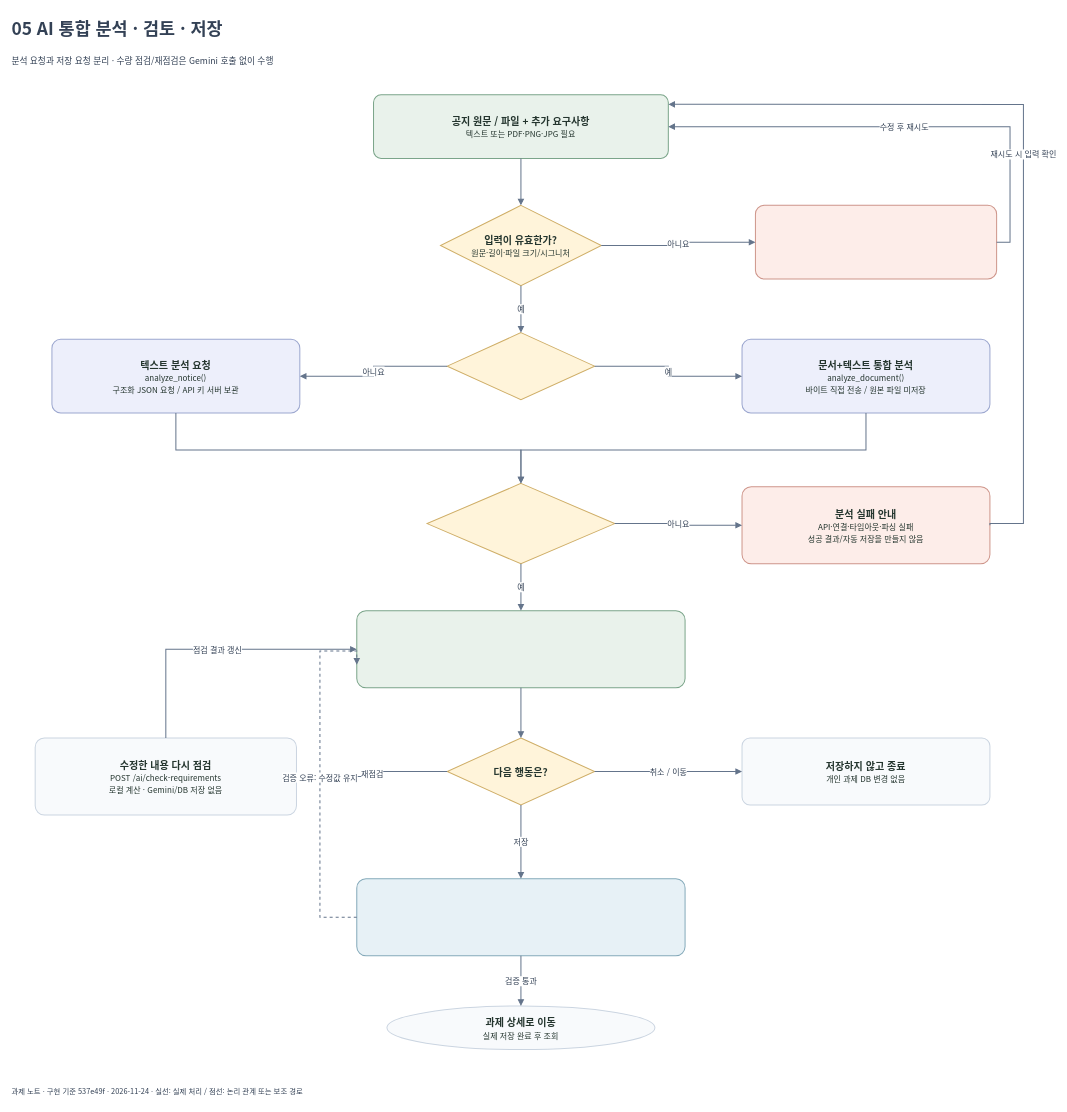
This 1067x1112 diagram has some shape labels left out. The shapes that lost their labels are listed below. From the top down, each one's box as (x1, y1, x2, y2) in pixels, then its label:
(755, 205, 997, 279): 입력 오류 안내 원문·요구사항 유지 파일은 다시 첨부
(446, 332, 595, 400): 첨부파일이 있는가?
(426, 483, 615, 564): API 응답·JSON 정규화 성공? 날짜·목록·요약 한도 확인
(356, 610, 685, 688): 분석 결과 + 요청 점검 표시 줄/글자/항목 수와 직접 검토 항목 구분 사용자가 원문과 비교하며 수정
(356, 878, 685, 956): 검토 결과 저장 요청 POST /ai/save 필드 검증 → 과제 + 체크리스트 트랜잭션
